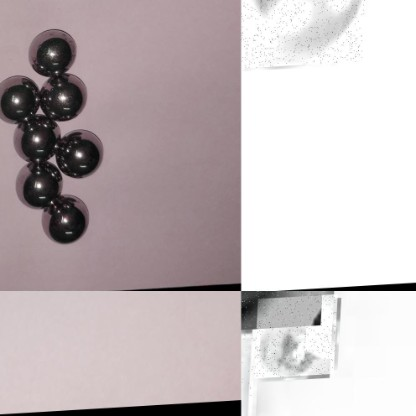ironball: (241, 0, 371, 73), (254, 297, 338, 380), (241, 291, 323, 338), (40, 71, 98, 126), (41, 193, 91, 251), (57, 128, 109, 180), (26, 25, 80, 75), (9, 161, 68, 205), (9, 117, 60, 162), (0, 75, 43, 118)
